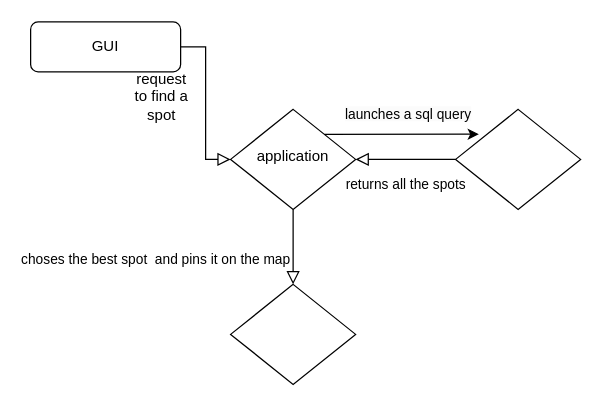
Some shapes in this 603 by 406 pixel diagram are drawn without their labels. The shapes that lost their labels are listed below. From the top down, each one's box as (x1, y1, x2, y2) in pixels, then its label:
(454, 108, 581, 209): ParkingSpotsDB
(229, 283, 356, 384): map
